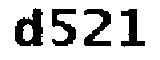1: (115, 5, 148, 54)
2: (80, 3, 112, 51)
5: (48, 3, 77, 52)
d: (9, 5, 44, 49)
